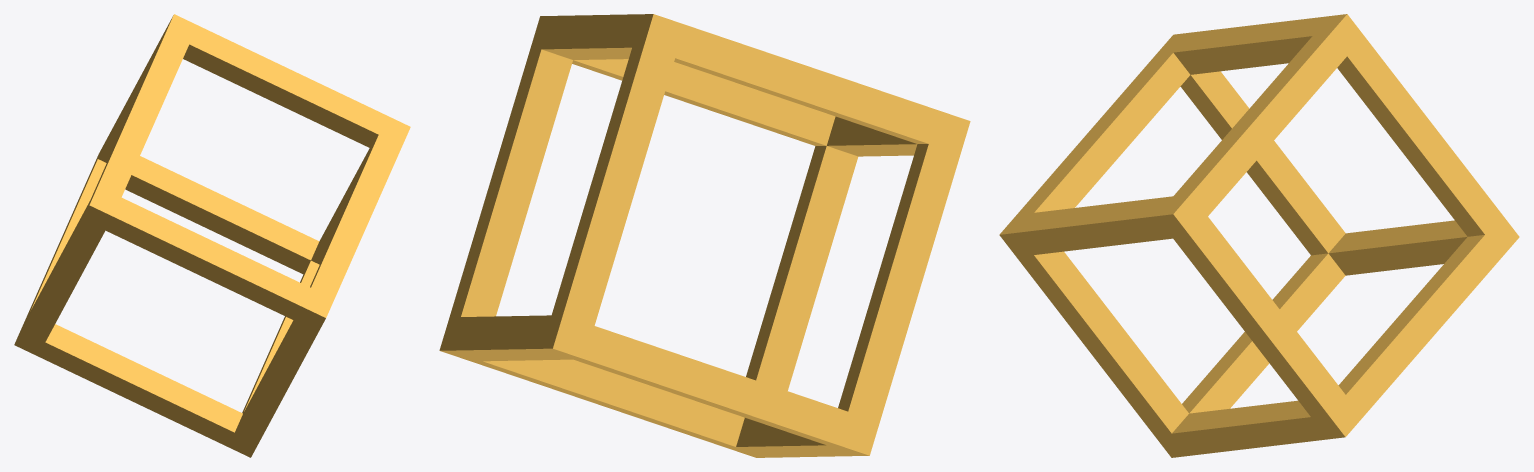
3 renders of one model, left to right at view 1: azimuth 30°, elevation 25°; view 2: azimuth 150°, elevation 25°; view 3: azimuth 270°, elevation 25°, orthographic. The views are drawn at different scales.
Visible parts, largest first — view 1: Cube; view 2: Cube; view 3: Cube.
Part boxes in pixels (box(x1,y1,x2,y2)): Cube: box(14, 14, 410, 457); Cube: box(439, 14, 970, 457); Cube: box(999, 14, 1519, 457).
Bounding box in the file's own units: 2.83 × 3.26 × 3.46.
